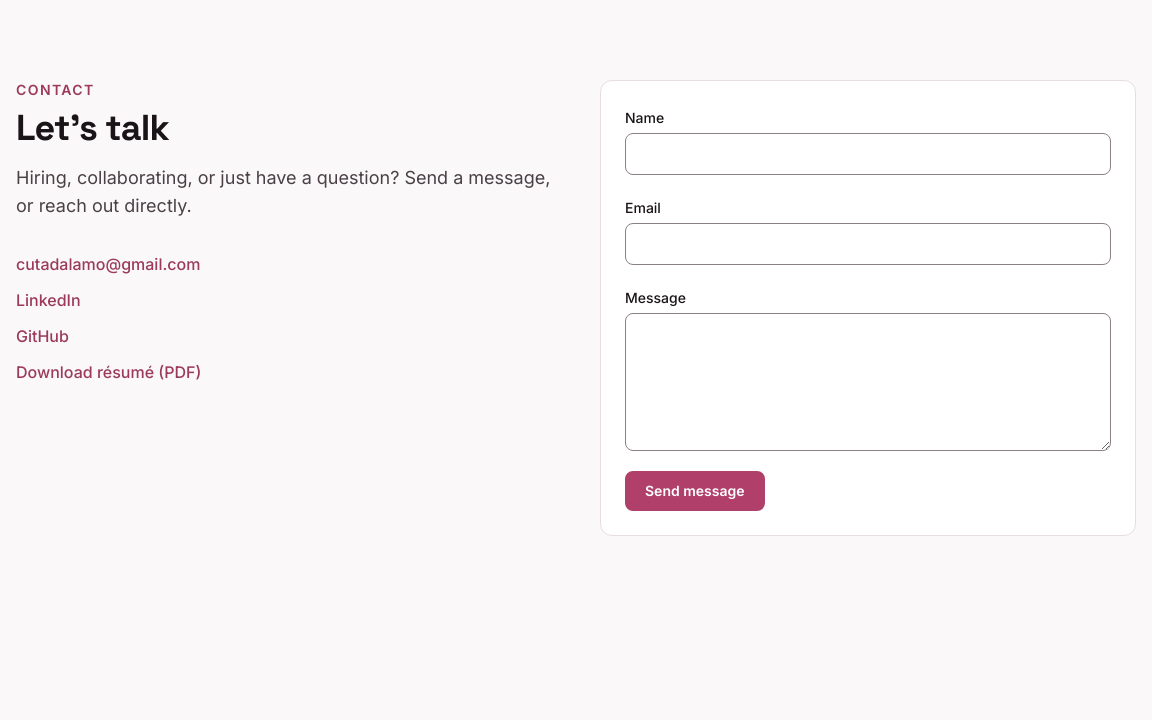
Contact form › sends the message and confirms
Type "Jane Recruiter" into the field labelled "Name" at point(868, 154), box [625,133,1111,175]
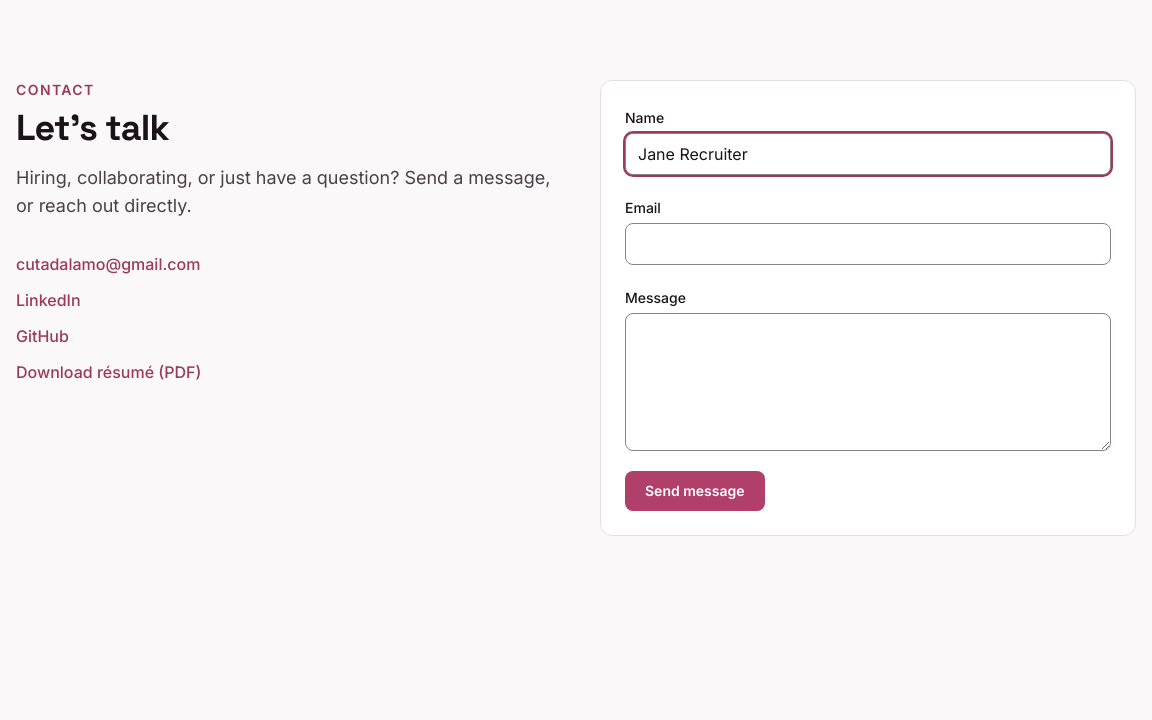
Type "jane@example.com" into the field labelled "Email" at point(868, 244), box [625,223,1111,265]
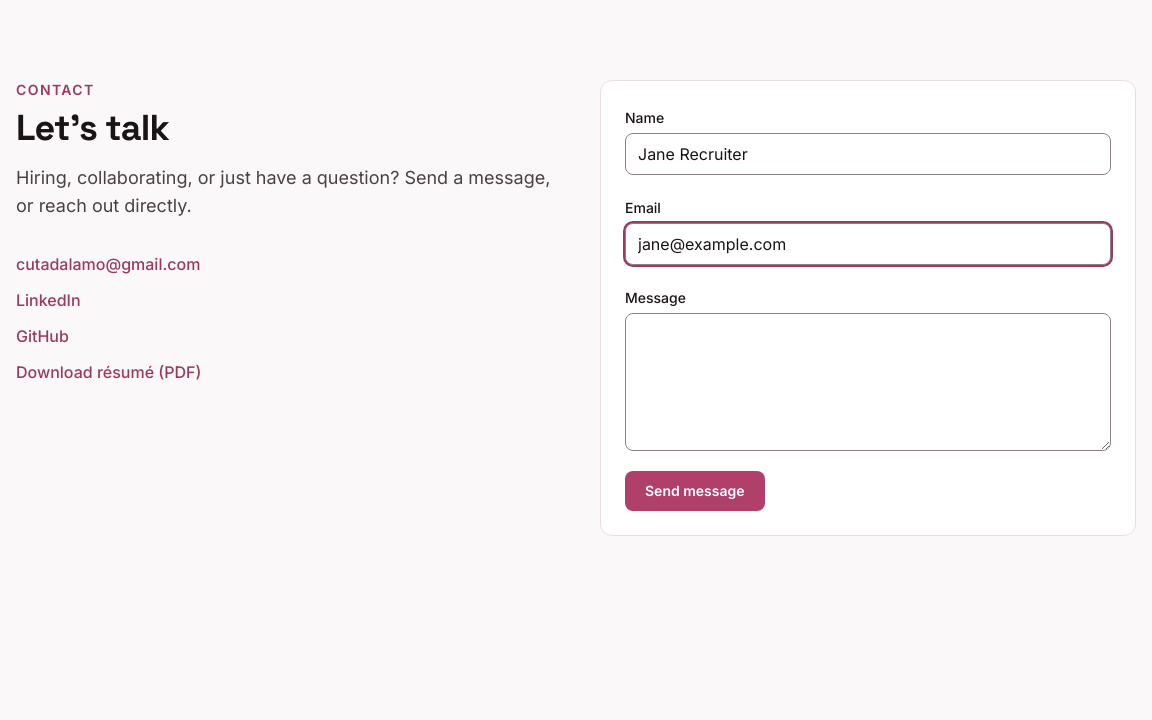
Type "We would like to talk about a role." into the text box labelled "Message" at point(868, 382), box [625,313,1111,451]
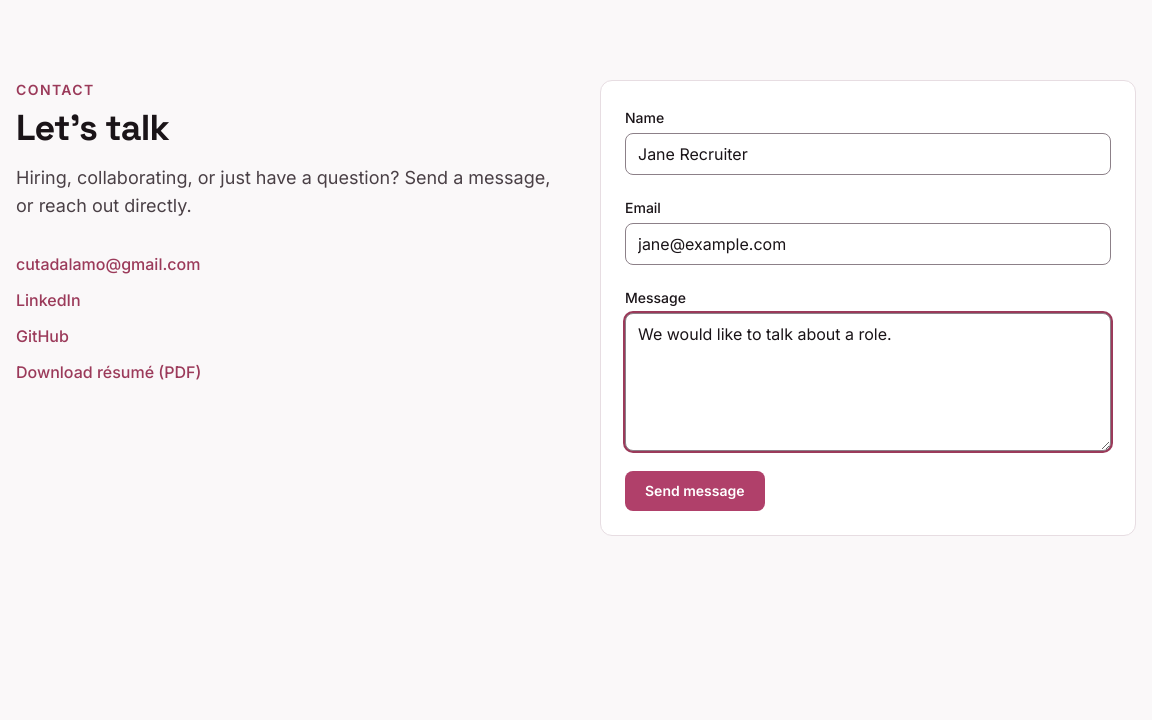
Click the button "Send message" at point(695, 491), box [625,471,765,511]
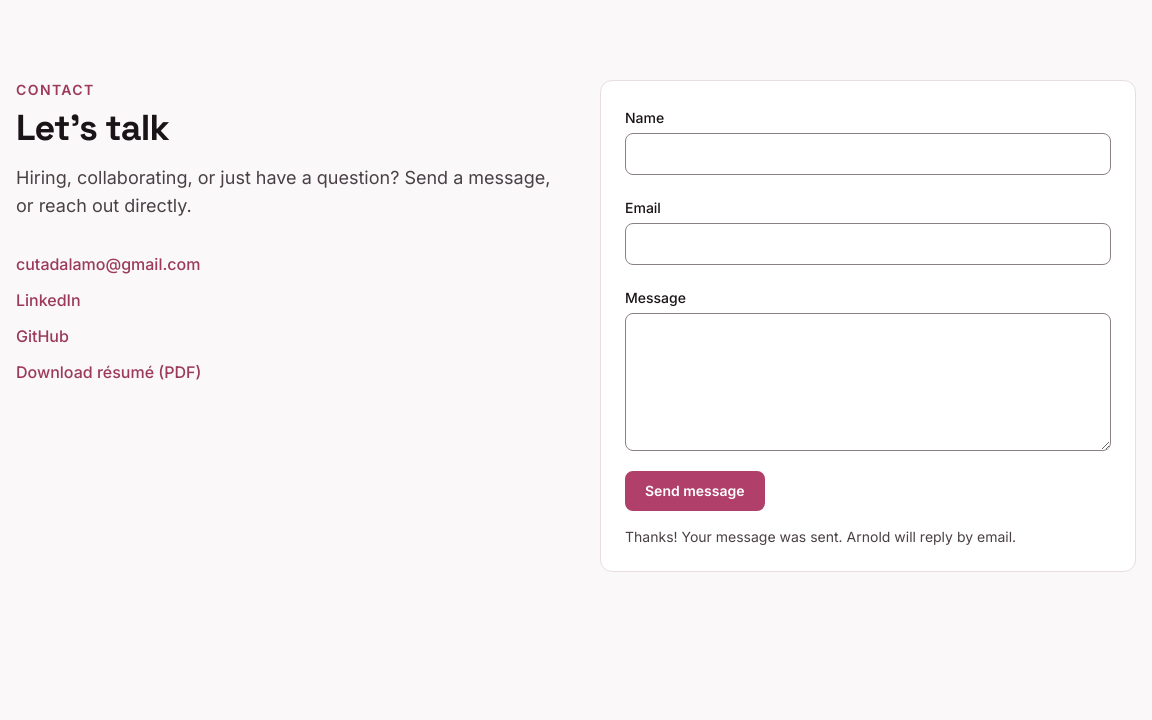
Result: the message shows "message was sent" at [625,528,1016,545]
Result: the field labelled "Name" is empty at [625,133,1111,175]
